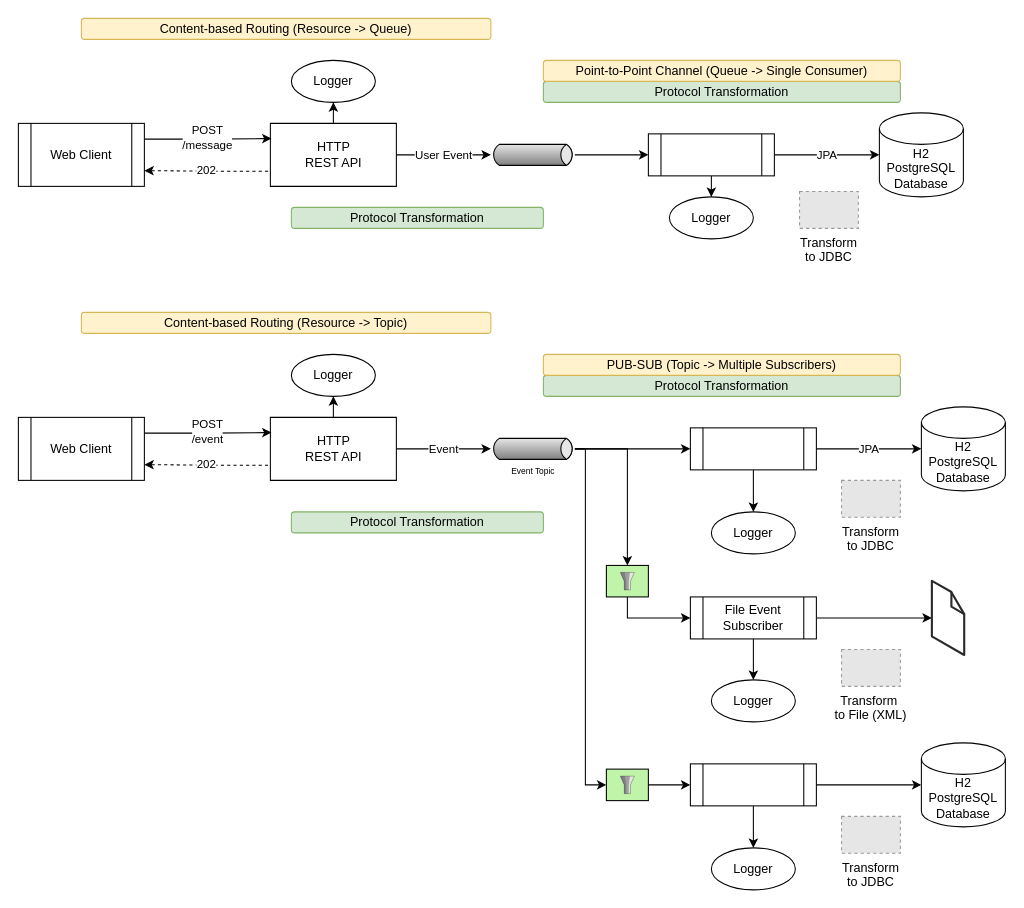
Image size: 1024x908. Some labels were removed from this diagram. Grey dashed boxes stand in for pictures. The shapes that lost their labels are listed below. From the top down, each one's centre as x and y in pixels, then its label:
point 532,154: Queue P2P Channel
point 710,154: User Event Consumer
point 752,448: DB Event Subscriber
point 626,580: ActiveFilter = TRUE
point 947,617: File
point 626,784: RatingFilter >= 5
point 752,784: High Rating DB Logger
